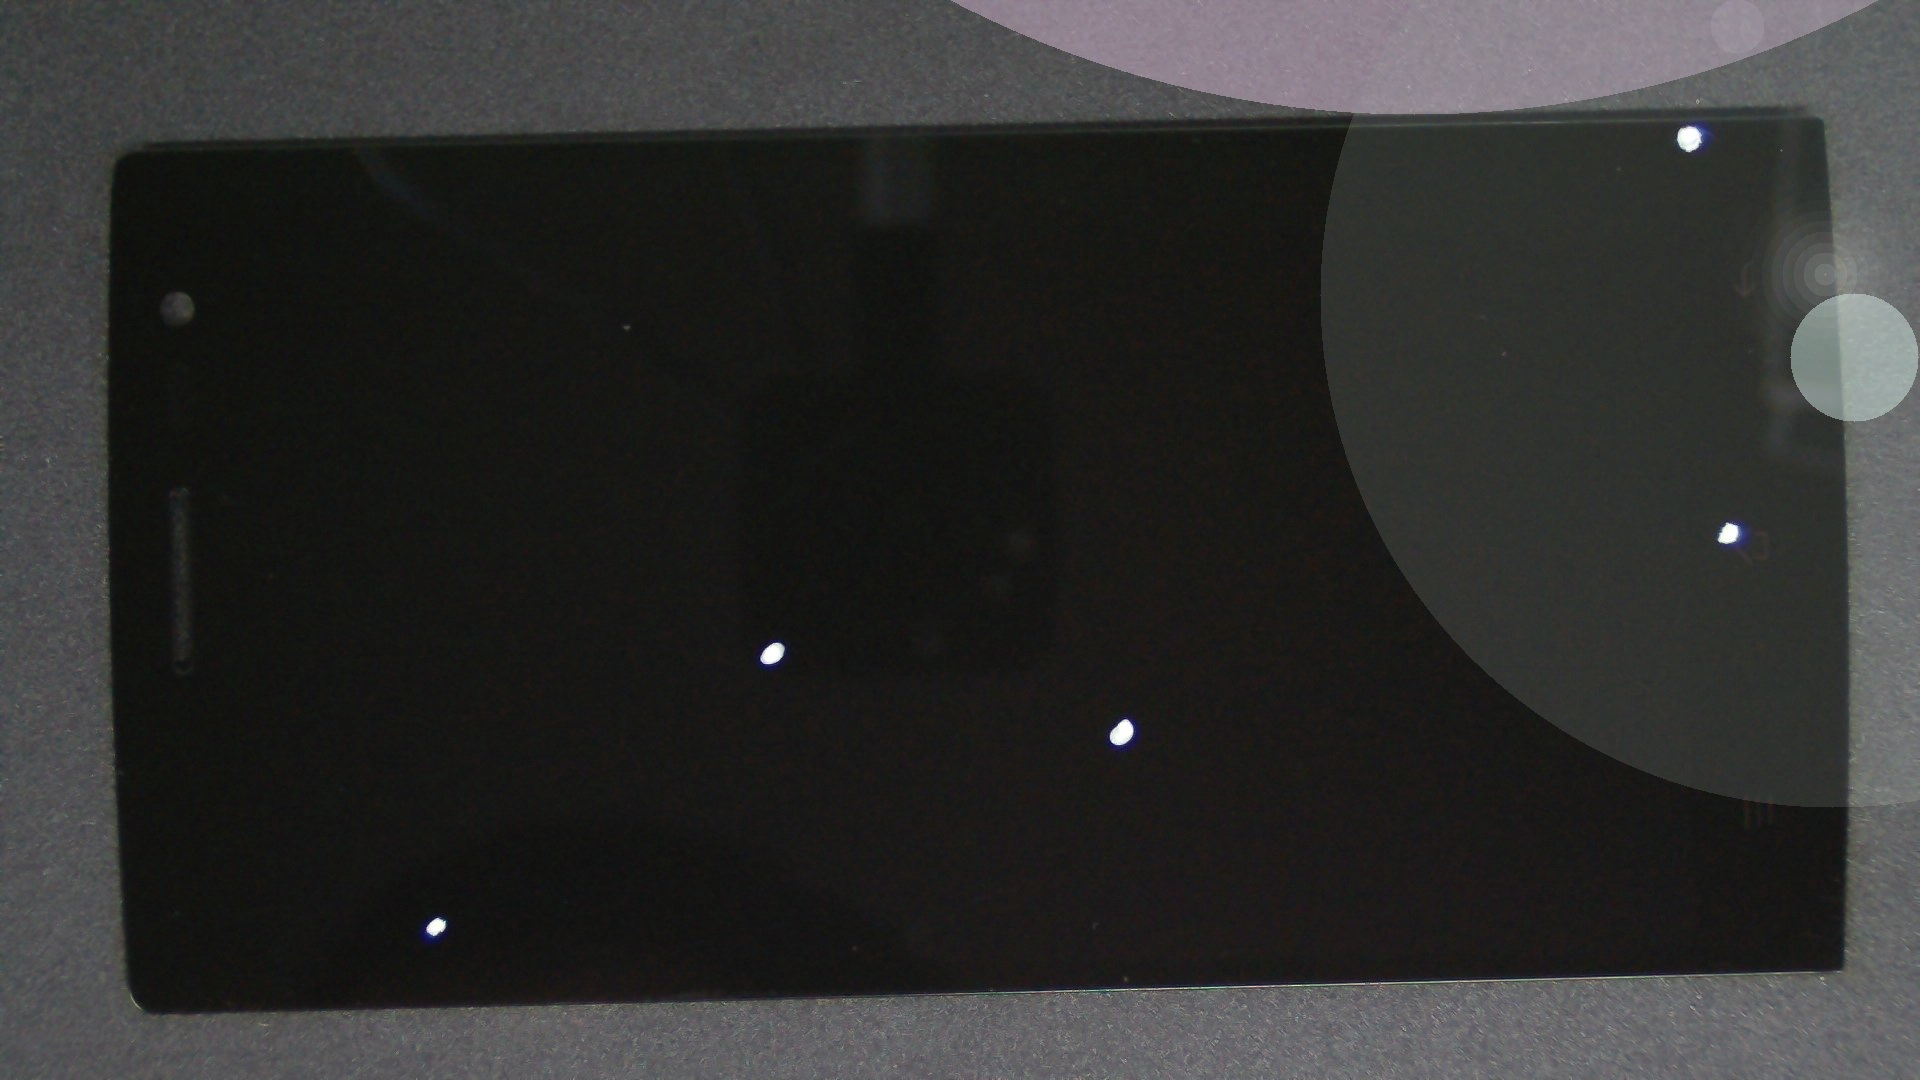oil: (563, 357, 1688, 1076), (862, 260, 1920, 782), (389, 319, 1163, 960), (219, 458, 657, 1080), (844, 62, 1920, 186)
